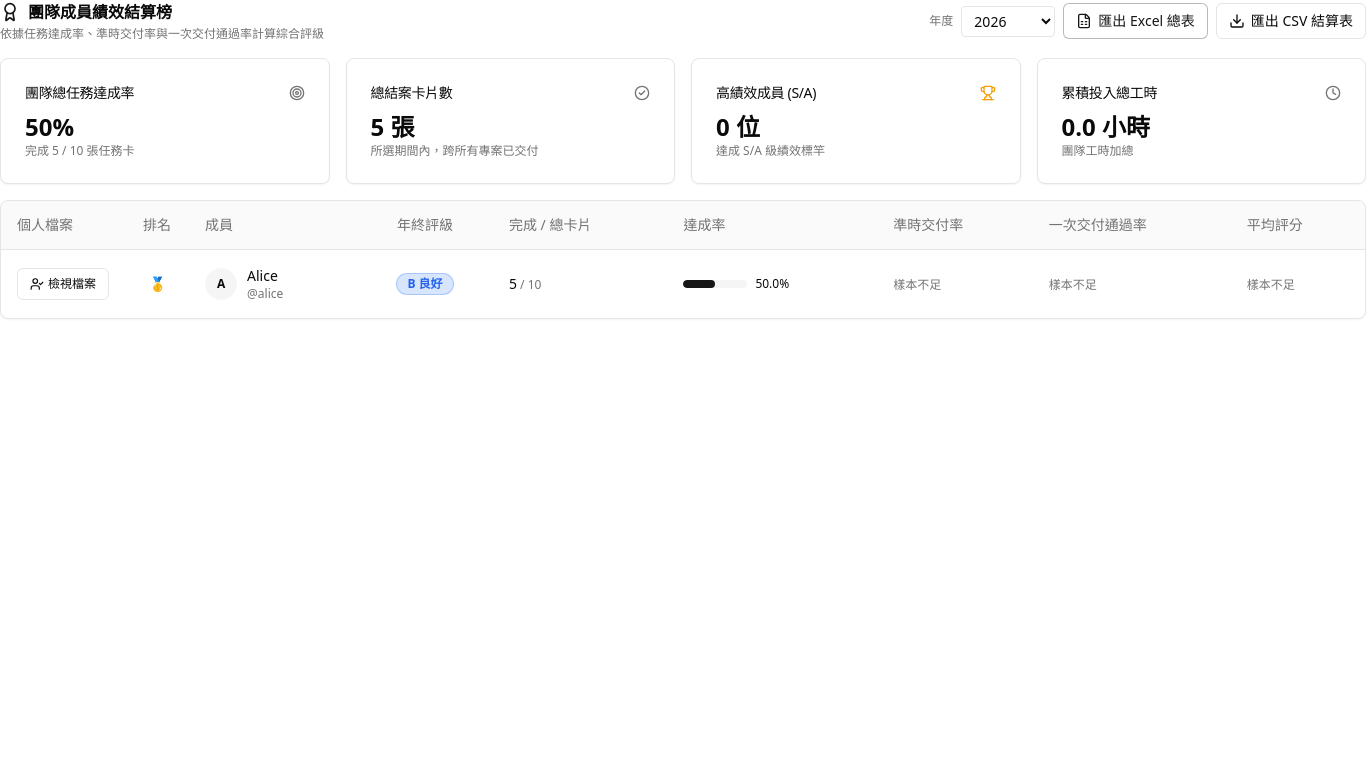
Test: TeamReportTab dossier › 每個條件都渲染伺服器帶下來的門檻與樣本數
The image size is (1366, 768).
Click the button "檢視檔案" at x=63, y=284, box [17,268,109,300]
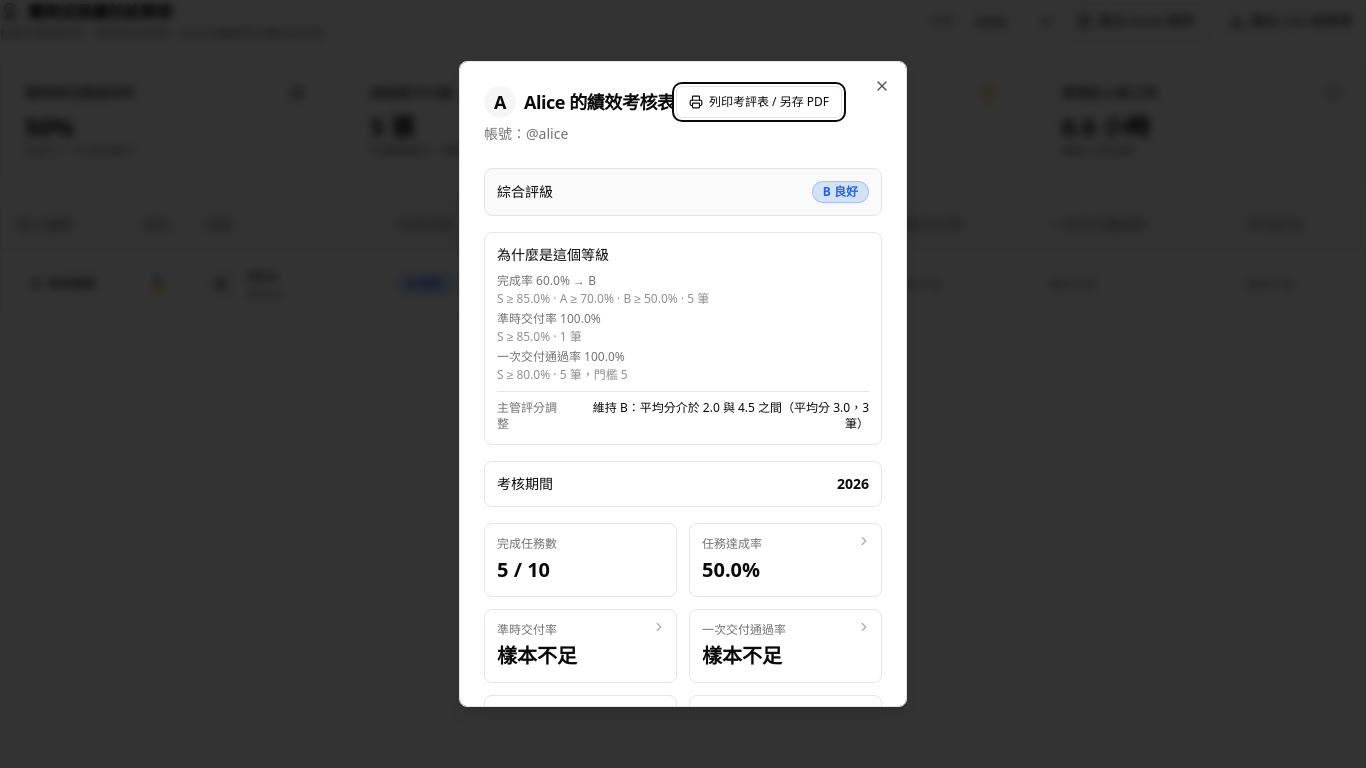
Result: the element with test id "rating-explanation" shows "S ≥ 85.0%" at [497,290,709,307]
Result: the element with test id "rating-explanation" shows "A ≥ 70.0%" at [497,290,709,307]
Result: the element with test id "rating-explanation" shows "B ≥ 50.0%" at [497,290,709,307]
